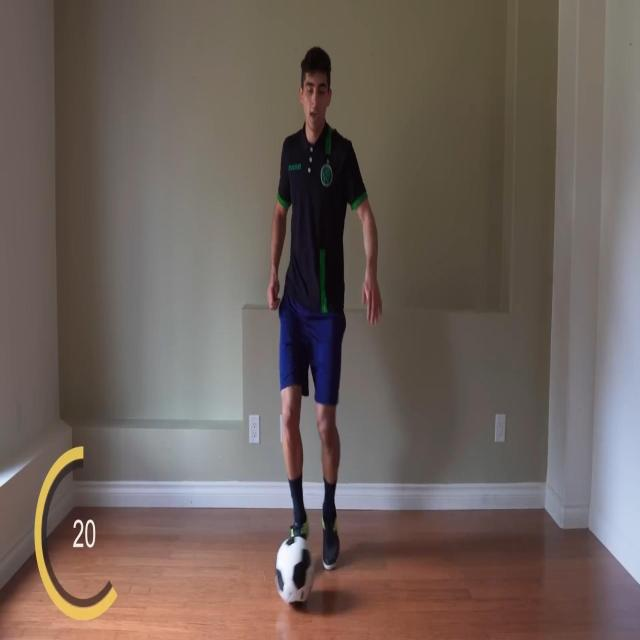Soccer Ball: (276, 536, 315, 608)
